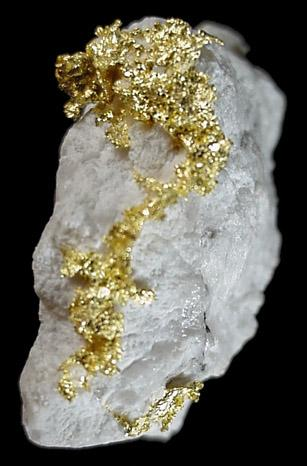gold: (56, 19, 232, 402), (113, 384, 202, 436)
